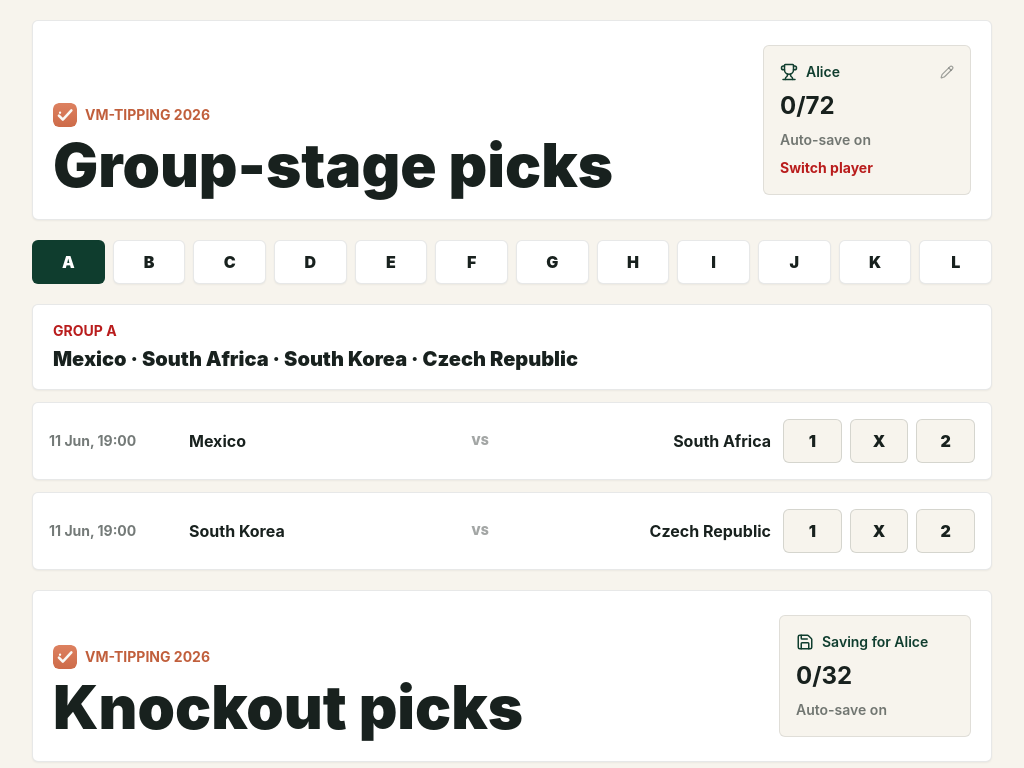
PlayerPage › group picks › saves a pick and shows that it was saved
The width and height of the screenshot is (1024, 768).
Click the 1st button "1" at (812, 441), box [783,419,842,463]
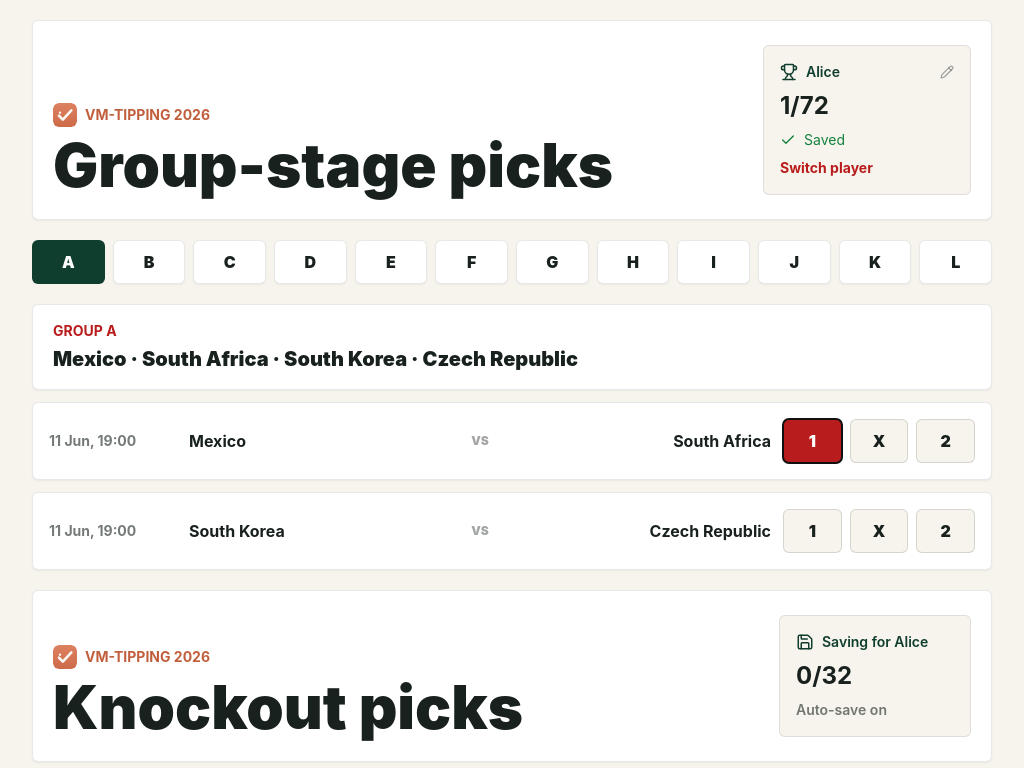
Expected: the text "Saved" is shown, [780,131,845,148]
